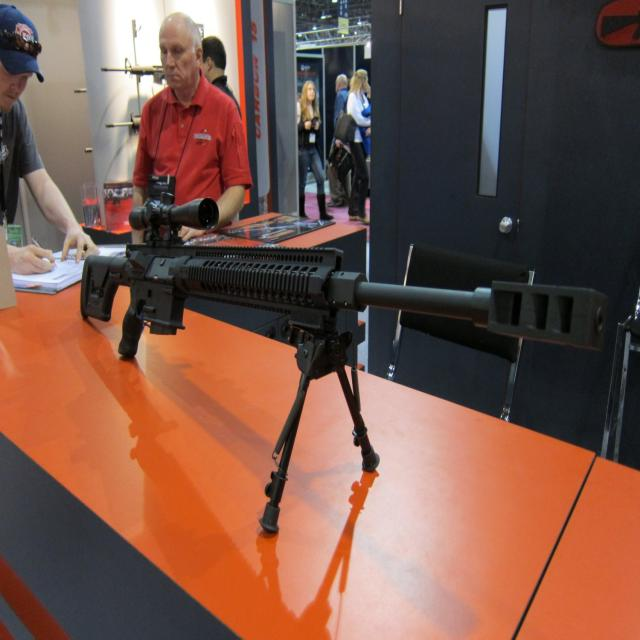Rifle: (80, 176, 608, 361)
